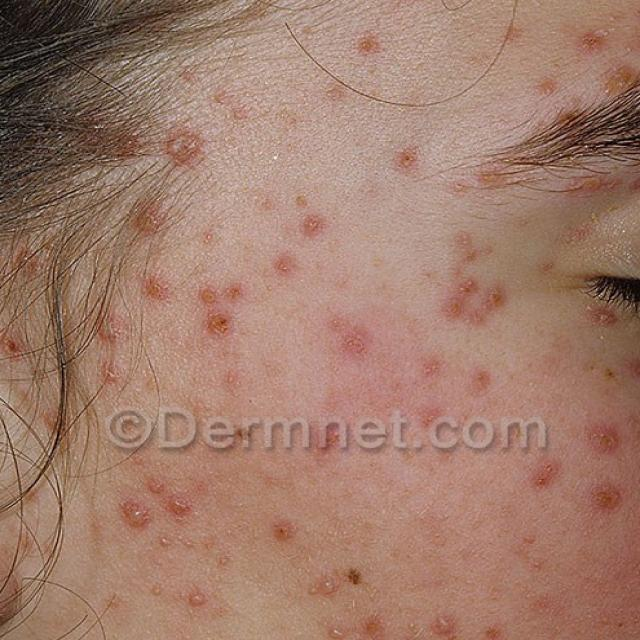Viral Infections: (0, 235, 252, 551), (106, 66, 447, 216), (318, 253, 508, 476), (272, 506, 541, 640), (520, 321, 640, 519), (488, 0, 640, 102)
